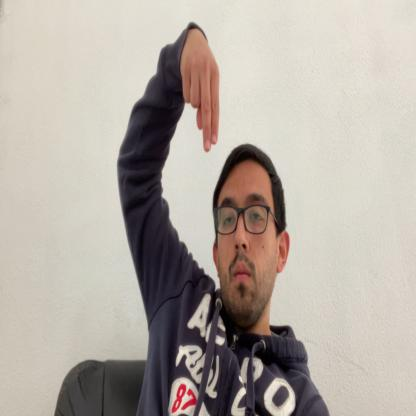N: (181, 31, 220, 153)
